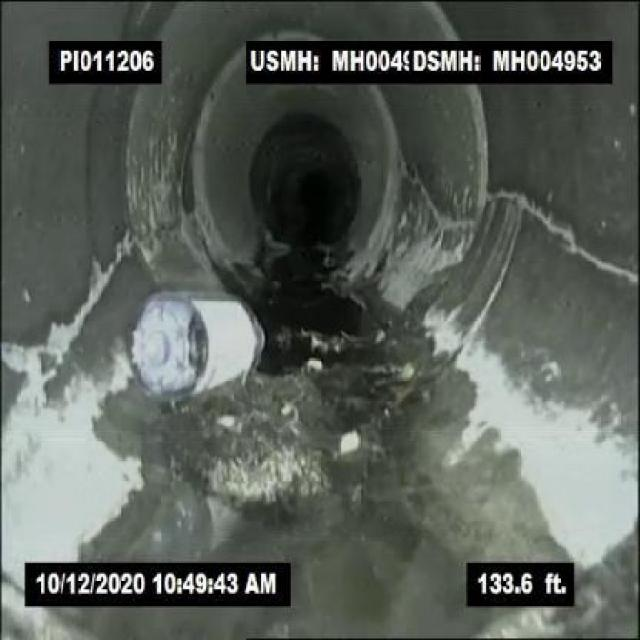Crack: (492, 188, 634, 283), (17, 259, 106, 406)
